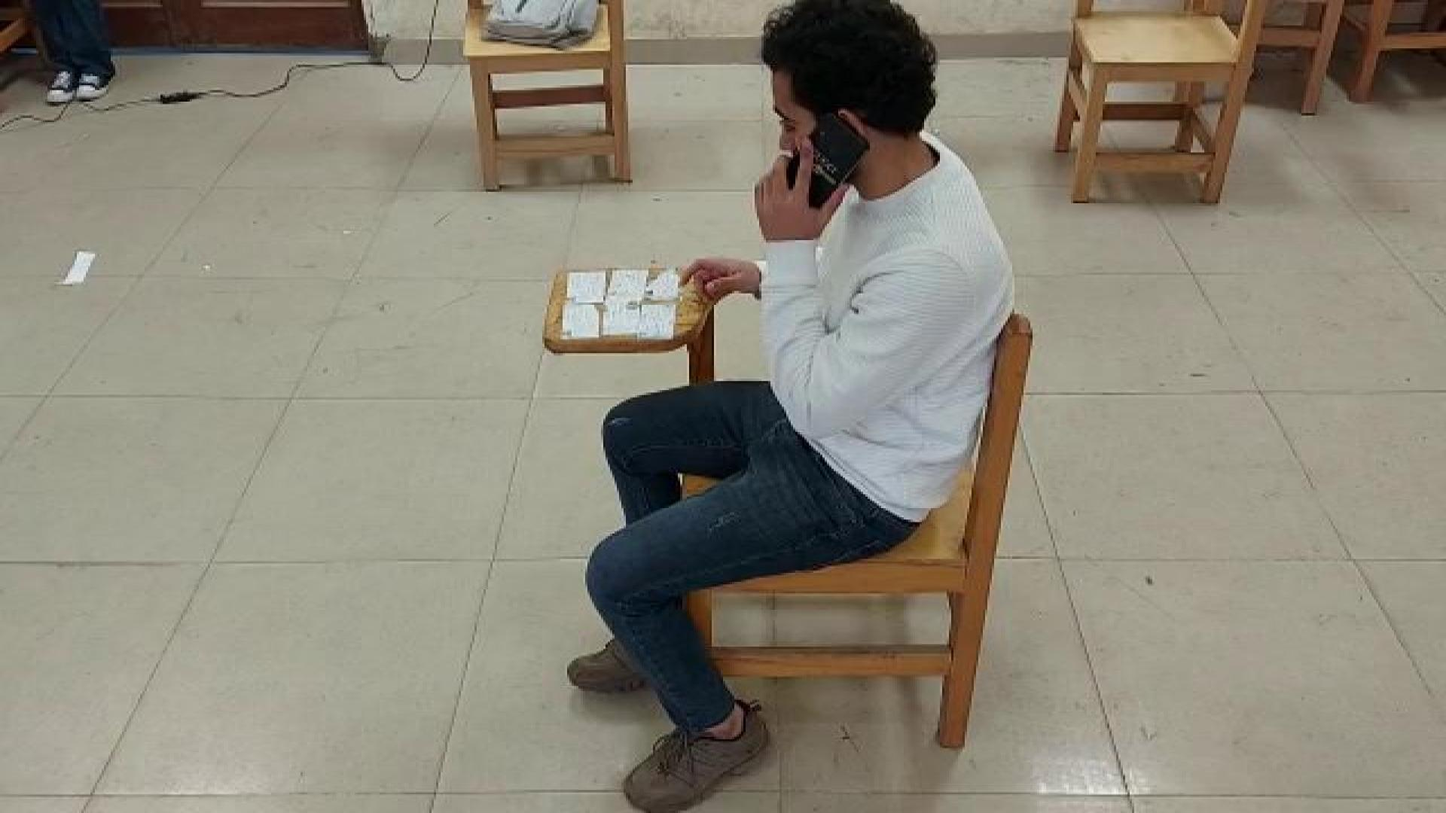phone: (789, 110, 877, 222)
